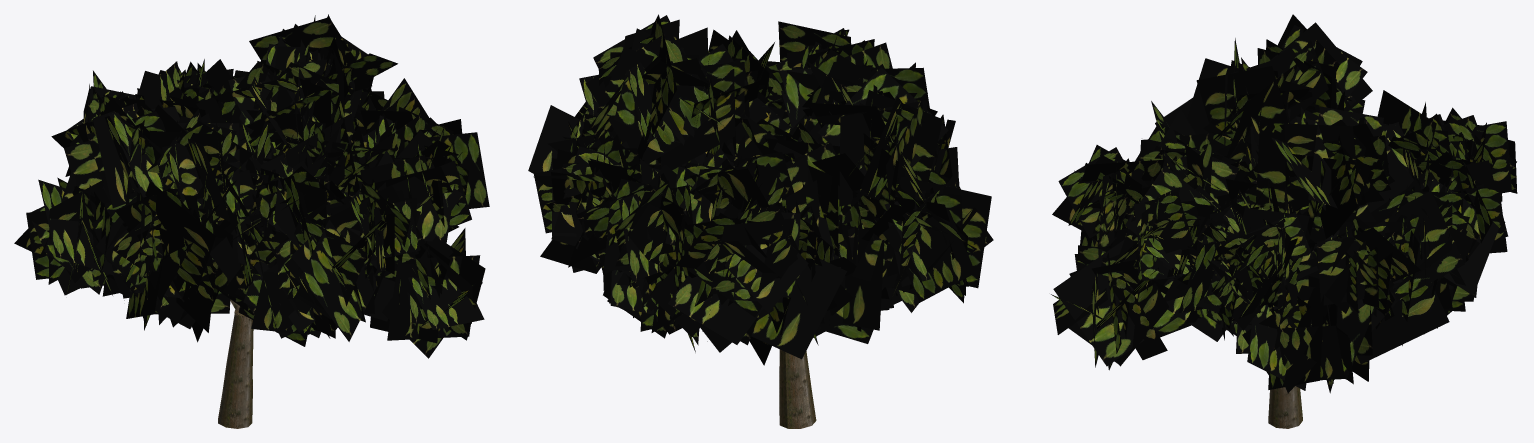
3 renders of one model, left to right at view 1: azimuth 30°, elevation 25°; view 2: azimuth 150°, elevation 25°; view 3: azimuth 270°, elevation 25°, orthographic. The views are drawn at different scales.
Parts seen in each view (by area): view 1: plane; view 2: plane; view 3: plane.
Part boxes in pixels (x1,y1,x2,y2): plane: [14, 14, 489, 428]; plane: [528, 14, 993, 428]; plane: [1051, 14, 1517, 428].
Bounding box in the file's own units: 15.05 × 12.55 × 14.44.
2 materials, 2 textured.
